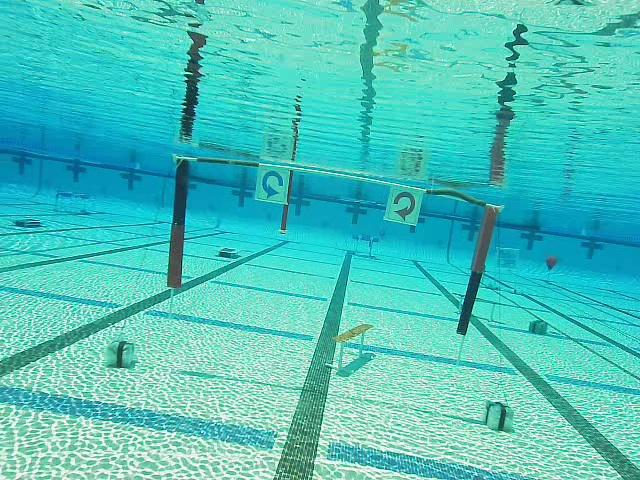buoy: (545, 255, 558, 273)
dropper: (217, 245, 240, 259)
gate: (167, 154, 501, 337)
gate_blue: (255, 164, 292, 204)
gate_leg_l: (167, 157, 191, 288)
gate_leg_r: (456, 204, 502, 337)
gate_red: (383, 183, 424, 226)
table: (350, 232, 380, 261)
